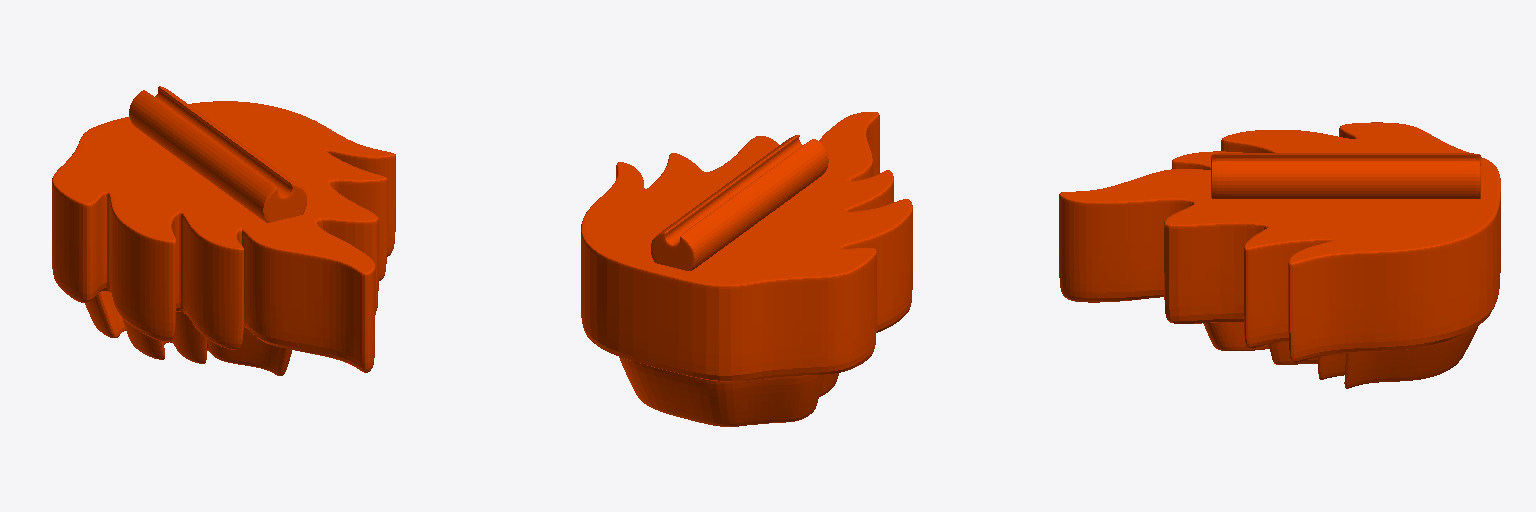
Rendered from Fire.obj.
3 views of the same model, side by side, from view 1: azimuth 30°, elevation 25°; view 2: azimuth 150°, elevation 25°; view 3: azimuth 270°, elevation 25° (orthographic).
Parts seen in each view (by area): view 1: 21330_Flame_v1; view 2: 21330_Flame_v1; view 3: 21330_Flame_v1.
Boxes of the visible parts, x1,y1,x2,y2 form: 21330_Flame_v1: [52, 86, 395, 375]; 21330_Flame_v1: [581, 112, 912, 426]; 21330_Flame_v1: [1059, 122, 1500, 388].
Bounding box in the file's own units: 3.73 × 2.37 × 4.92.